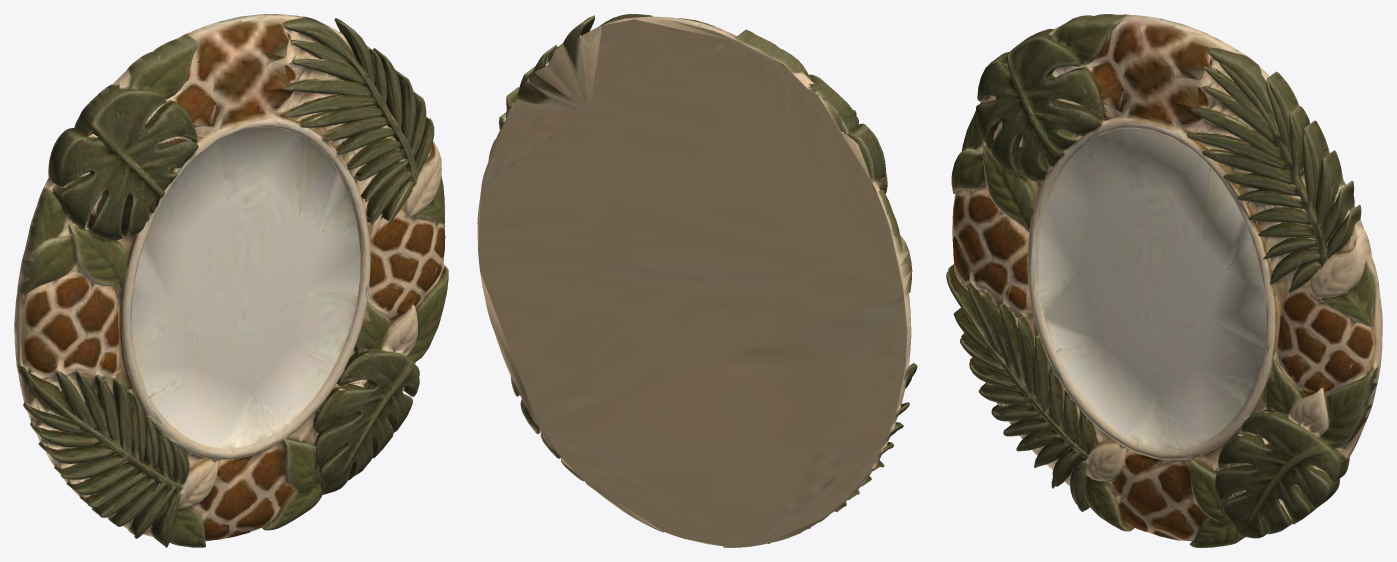
The picture shows the model from 3 angles, left to right: view 1: azimuth 30°, elevation 25°; view 2: azimuth 150°, elevation 25°; view 3: azimuth 330°, elevation 25°; orthographic projection.
Size of the model in its own units: 1.66 by 1.9 by 0.1826.
1 material, 1 textured.
